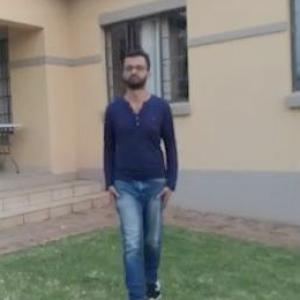follow: (99, 42, 178, 278)
